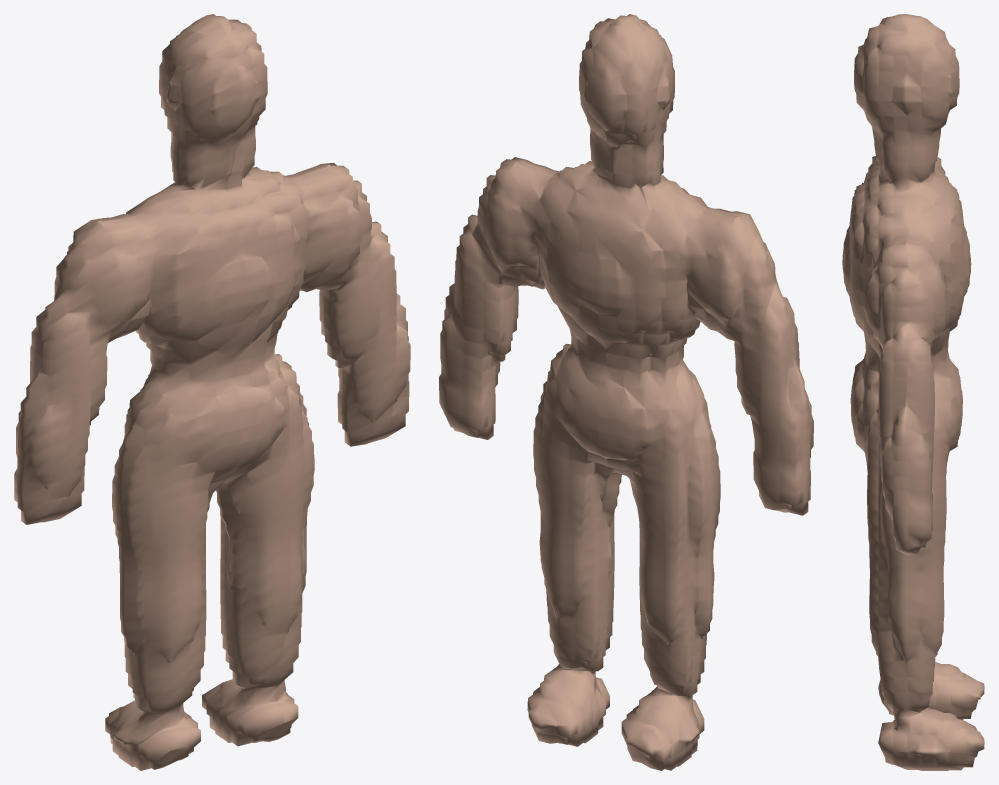
File: character.glb
3 views of the same model, side by side, from view 1: azimuth 30°, elevation 25°; view 2: azimuth 150°, elevation 25°; view 3: azimuth 270°, elevation 25° (orthographic). The views are drawn at different scales.
Visible parts, largest first — view 1: character; view 2: character; view 3: character.
Boxes of the visible parts, <box> form: character: <box>14,14,410,770</box>; character: <box>439,14,813,770</box>; character: <box>842,14,984,770</box>.
Size of the model in its own units: 1.01 by 1.87 by 0.331.
